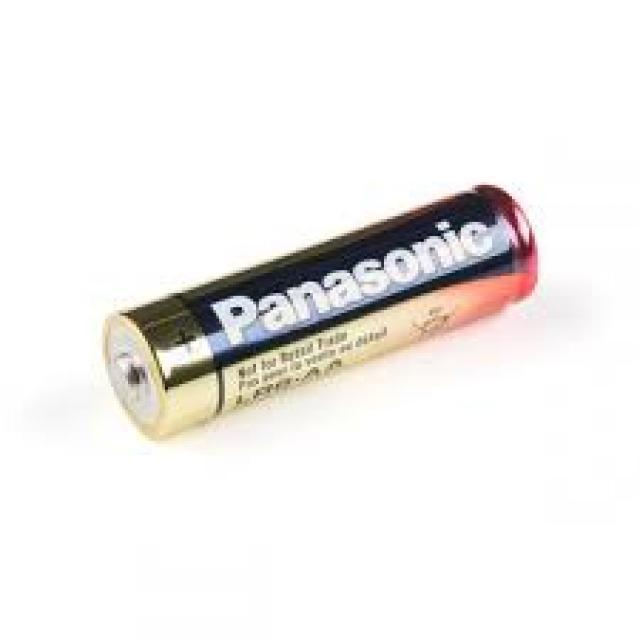battery: (101, 183, 537, 440)
